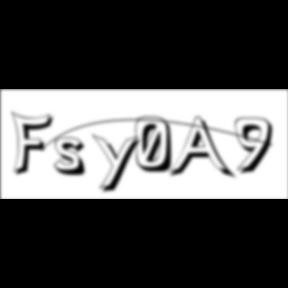0: (136, 115, 180, 174)
9: (236, 117, 280, 177)
A: (169, 116, 238, 182)
F: (11, 110, 59, 178)
s: (54, 137, 93, 179)
y: (93, 132, 147, 196)
